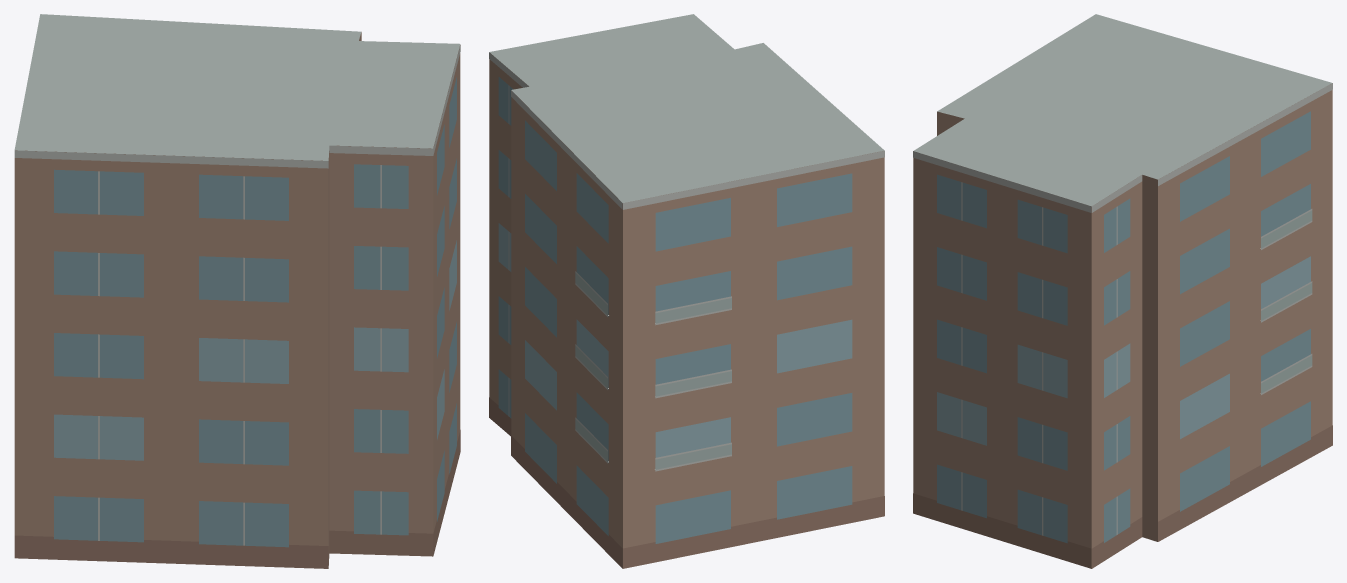
Rendered from survey-upis-32860689.glb.
3 views of the same model, side by side, from view 1: azimuth 30°, elevation 25°; view 2: azimuth 150°, elevation 25°; view 3: azimuth 270°, elevation 25° (orthographic). The views are drawn at different scales.
Visible parts, largest first — view 1: survey-upis-32860689.tmp; view 2: survey-upis-32860689.tmp; view 3: survey-upis-32860689.tmp.
Boxes of the visible parts, x1,y1,x2,y2 form: survey-upis-32860689.tmp: (14, 14, 460, 568); survey-upis-32860689.tmp: (489, 14, 884, 568); survey-upis-32860689.tmp: (913, 14, 1332, 568).
Bounding box in the file's own units: 15.01 × 13.18 × 13.83.
